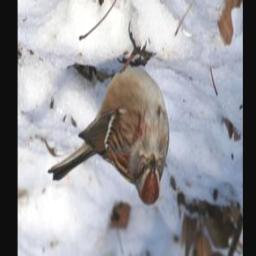Sparrow: (46, 18, 171, 213)
